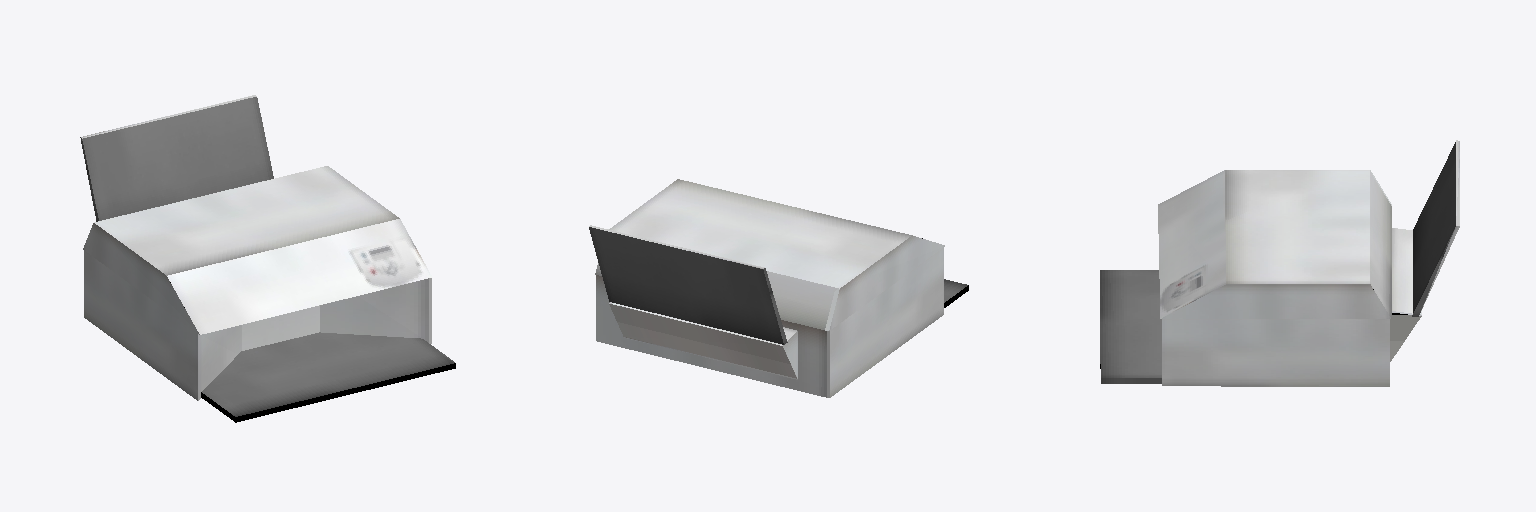
3 views of the same model, side by side, from view 1: azimuth 30°, elevation 25°; view 2: azimuth 150°, elevation 25°; view 3: azimuth 270°, elevation 25° (orthographic).
Visible parts, largest first — view 1: Group; view 2: Group; view 3: Group.
Part boxes in pixels (x1,y1,x2,y2): Group: (80,95,455,422); Group: (589,179,968,397); Group: (1100,140,1459,386).
Bounding box in the file's own units: 15.06 × 9.06 × 20.11.
Materials: 1 (1 with a texture image).